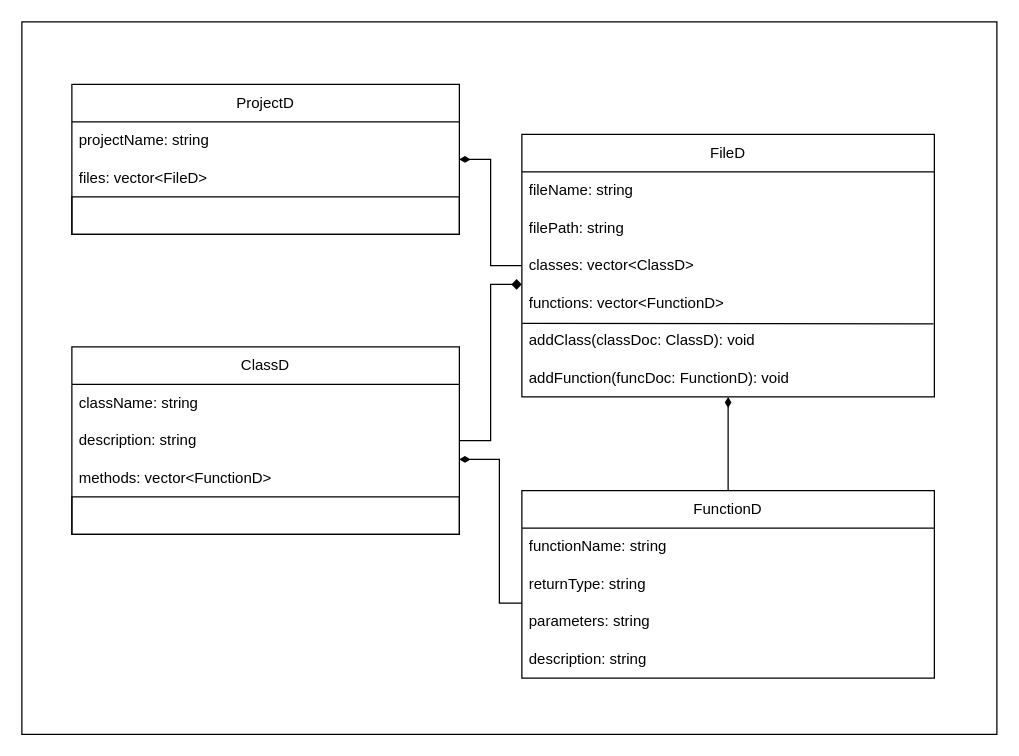
Some shapes in this 1019 by 756 pixel diagram are drawn without their labels. The shapes that lost their labels are listed below. From the top down, each one's centre as x and y in pixels, then its label:
the point at 265,215: addFile(fileDoc: FileD): void
the point at 265,515: addMethod ( methodDoc : FunctionD ): void
